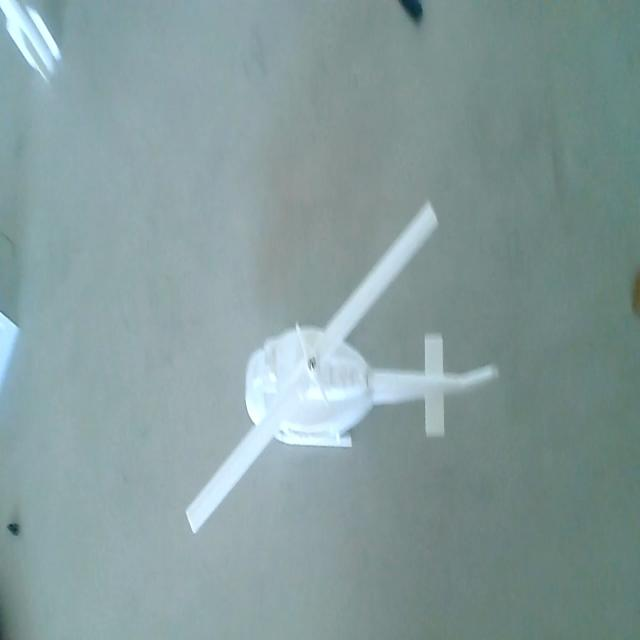Helicopter: (185, 196, 500, 576)
